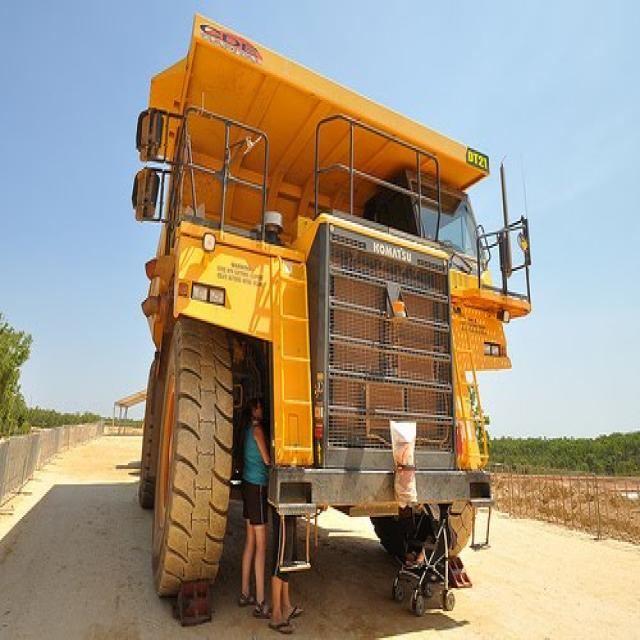dump_truck: (129, 19, 529, 615)
